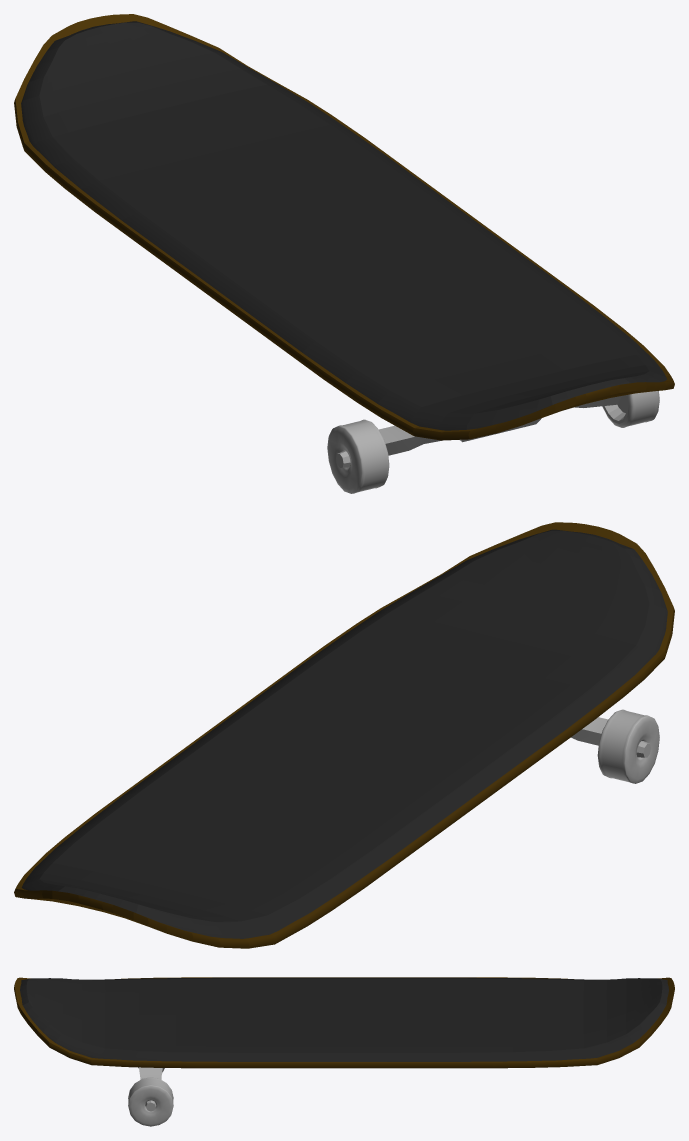
The model's file is board_mesh.fbx.
3 views of the same model, one above another, from view 1: azimuth 30°, elevation 25°; view 2: azimuth 150°, elevation 25°; view 3: azimuth 270°, elevation 25° (orthographic). The views are drawn at different scales.
Visible parts, largest first — view 1: grip, baseDeck, lWheel, rWheel, truck; view 2: grip, baseDeck, lWheel; view 3: grip, baseDeck, rWheel, truck.
Boxes of the visible parts, <box> form: grip: <box>21,21,666,430</box>; baseDeck: <box>14,14,674,440</box>; lWheel: <box>327,419,389,493</box>; rWheel: <box>602,391,659,427</box>; truck: <box>379,396,621,455</box>; grip: <box>21,529,667,938</box>; baseDeck: <box>14,522,674,948</box>; lWheel: <box>597,709,659,783</box>; grip: <box>20,977,668,1061</box>; baseDeck: <box>14,977,674,1068</box>; rWheel: <box>128,1077,173,1126</box>; truck: <box>138,1067,164,1079</box>.
Size of the model in its own units: 2.08 by 0.9216 by 5.97.
